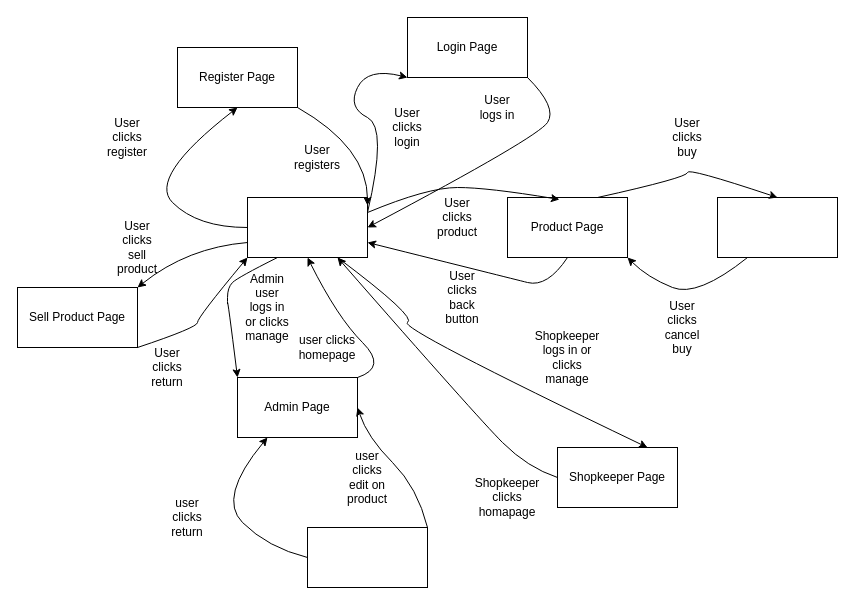
This 855x605 diagram has some shape labels left out. Here are the shapes that lost their labels. From the top down, the box of each, then its label:
(246, 196, 368, 258): Index Page
(716, 196, 838, 258): Buy Page
(306, 526, 428, 588): Product Edit Page
